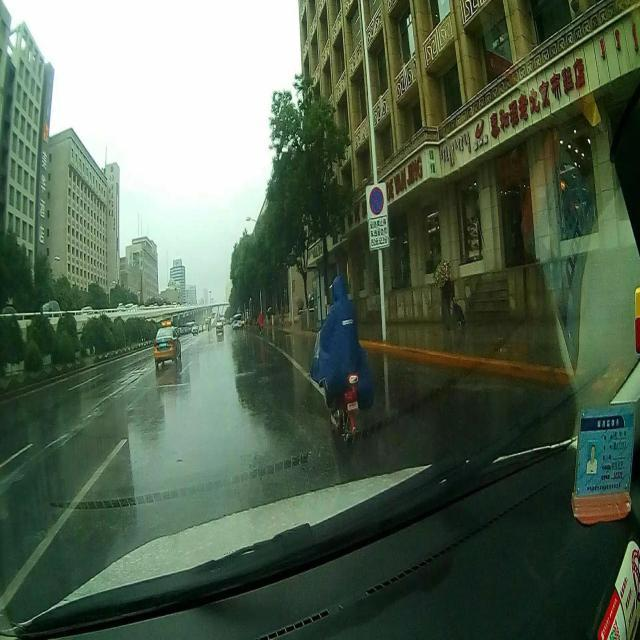car: (154, 318, 183, 362), (216, 320, 223, 332)
